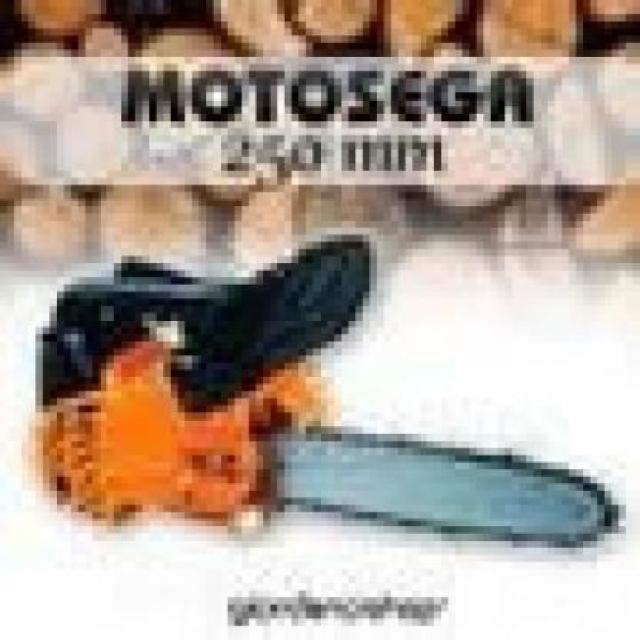Chainsaw: (28, 234, 624, 558)
